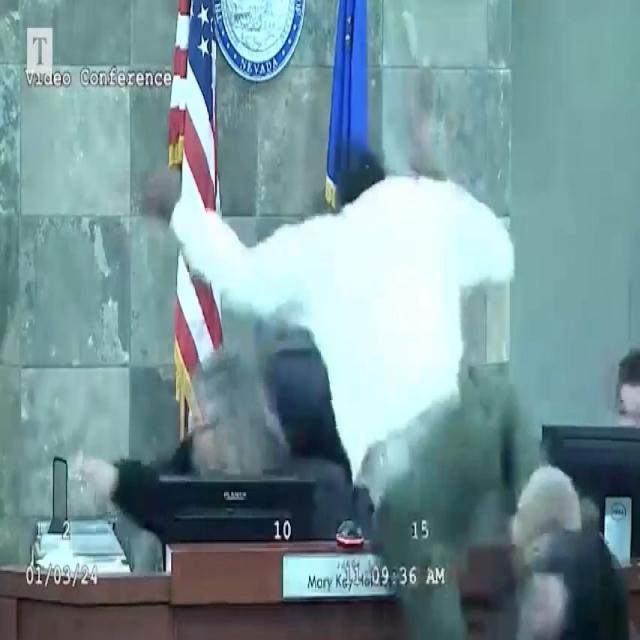fight: (136, 121, 598, 640)
